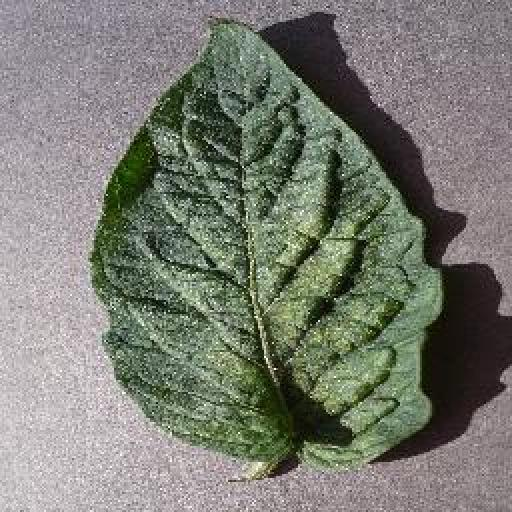Spider Mites: (92, 15, 443, 472)
